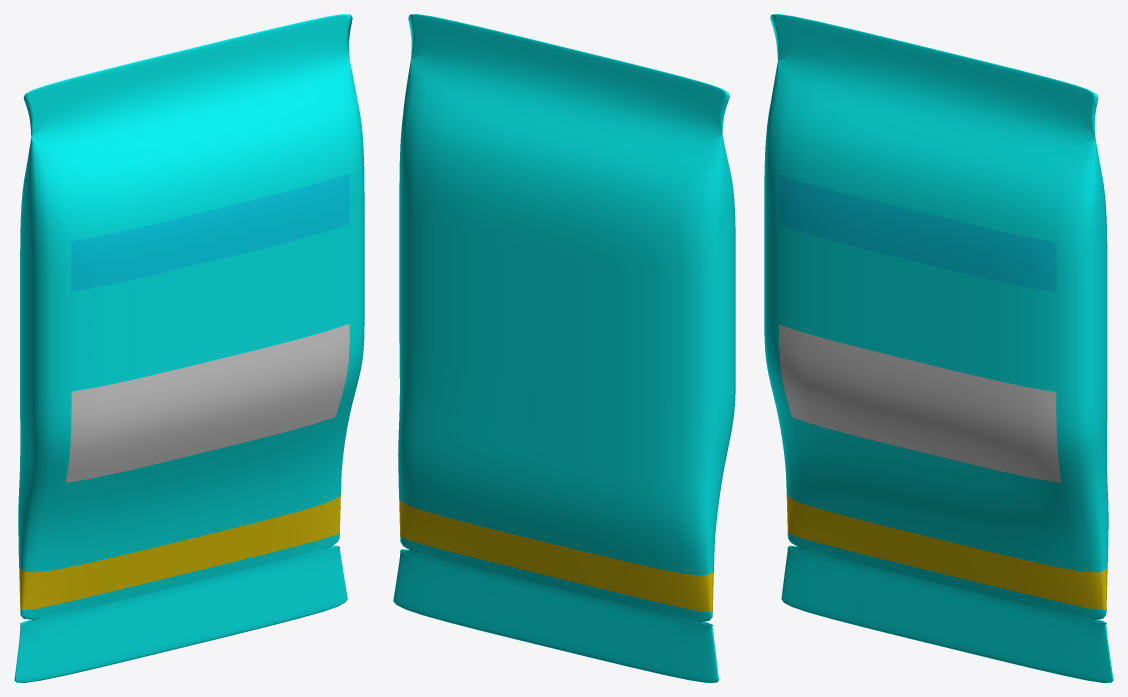
Rendered from Crisp_Packet_Final.fbx.
3 renders of one model, left to right at view 1: azimuth 30°, elevation 25°; view 2: azimuth 150°, elevation 25°; view 3: azimuth 330°, elevation 25°, orthographic. The views are drawn at different scales.
Parts seen in each view (by area): view 1: Crisp_Packet; view 2: Crisp_Packet; view 3: Crisp_Packet.
Part boxes in pixels (x1,y1,x2,y2): Crisp_Packet: (14,14,364,682); Crisp_Packet: (393,14,735,682); Crisp_Packet: (764,14,1113,682).
Bounding box in the file's own units: 1.05 × 1.82 × 0.2525.
